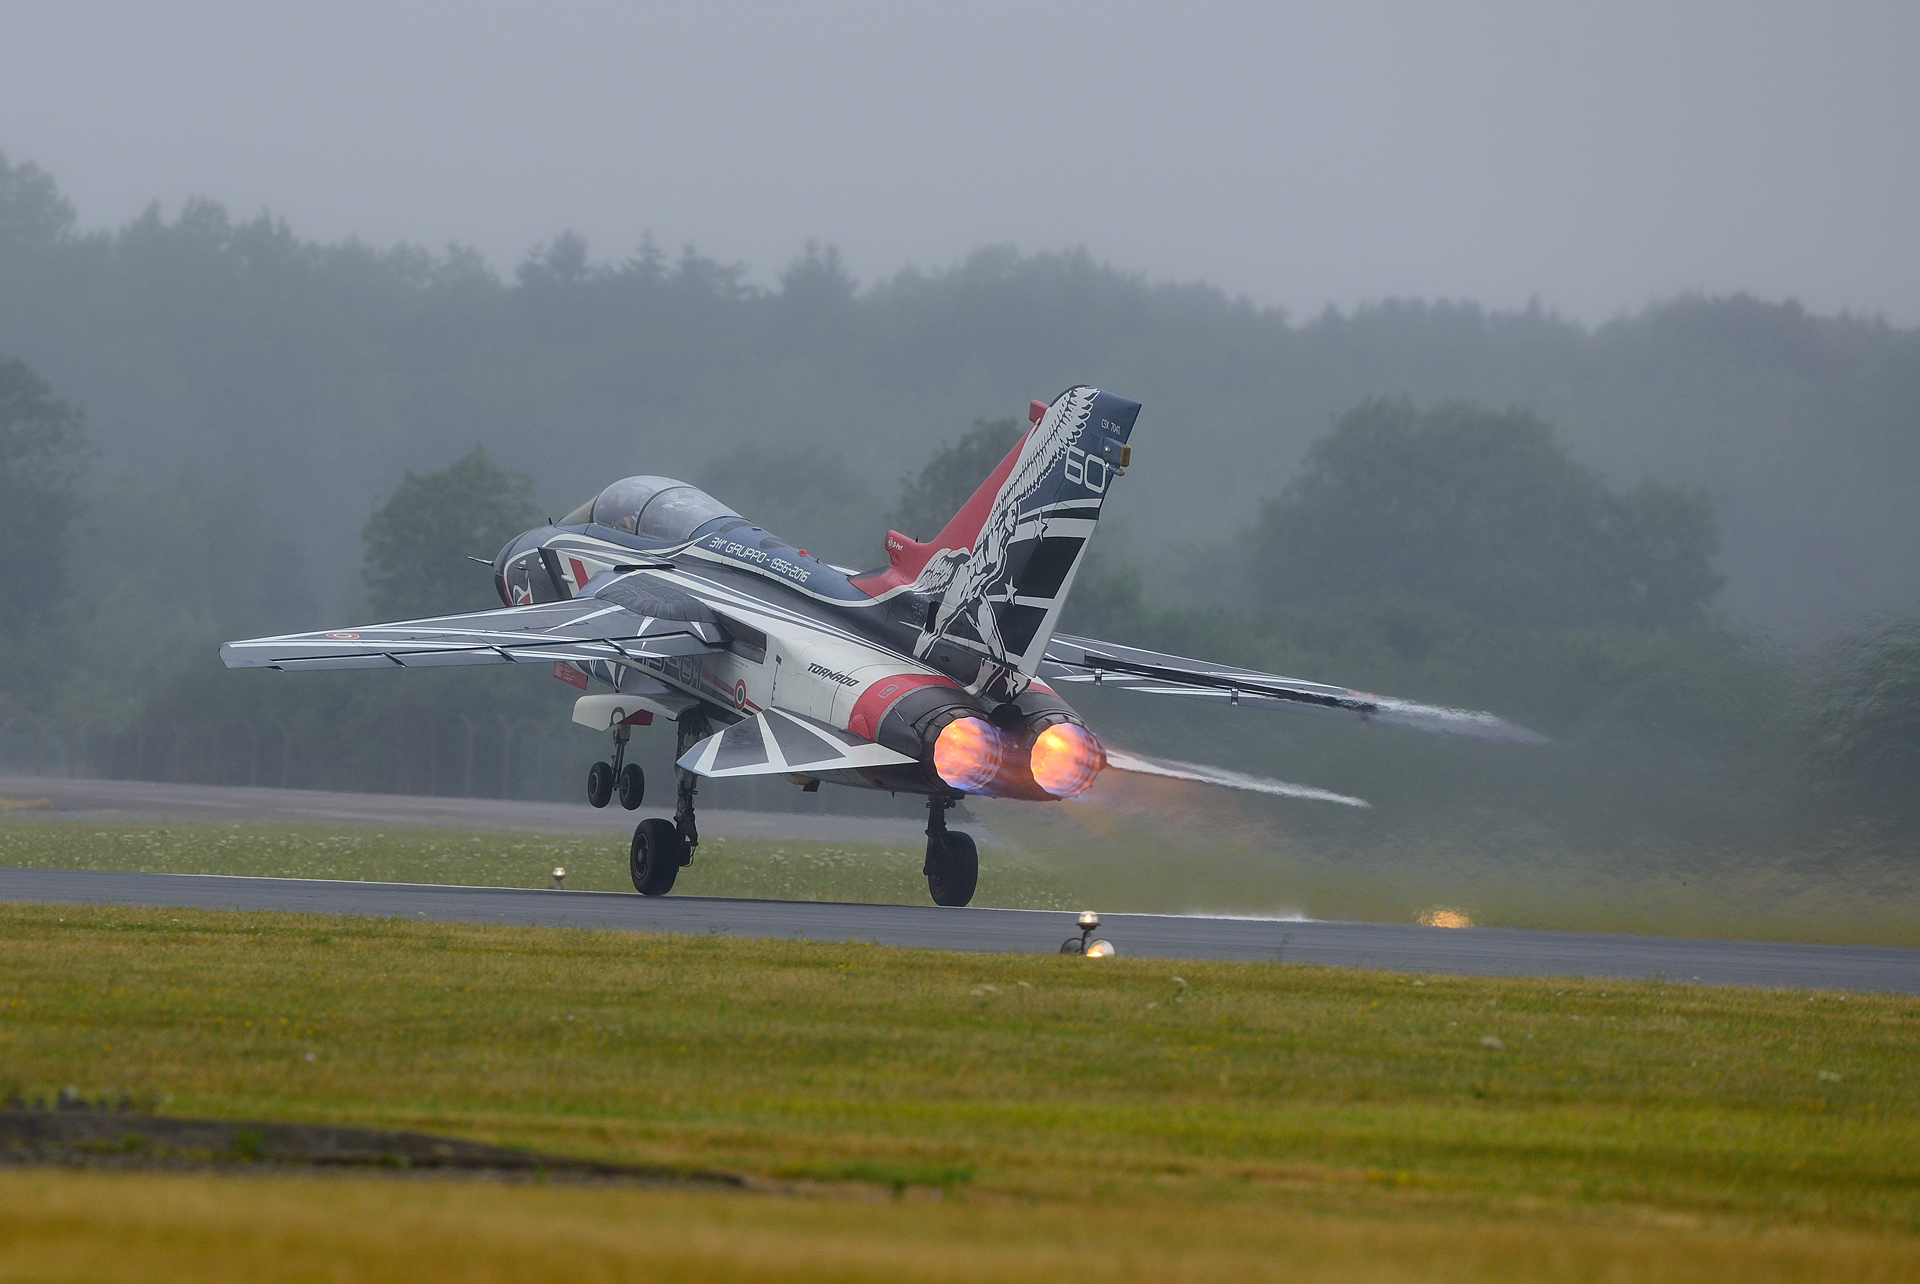Tornado: (216, 384, 1553, 907)
